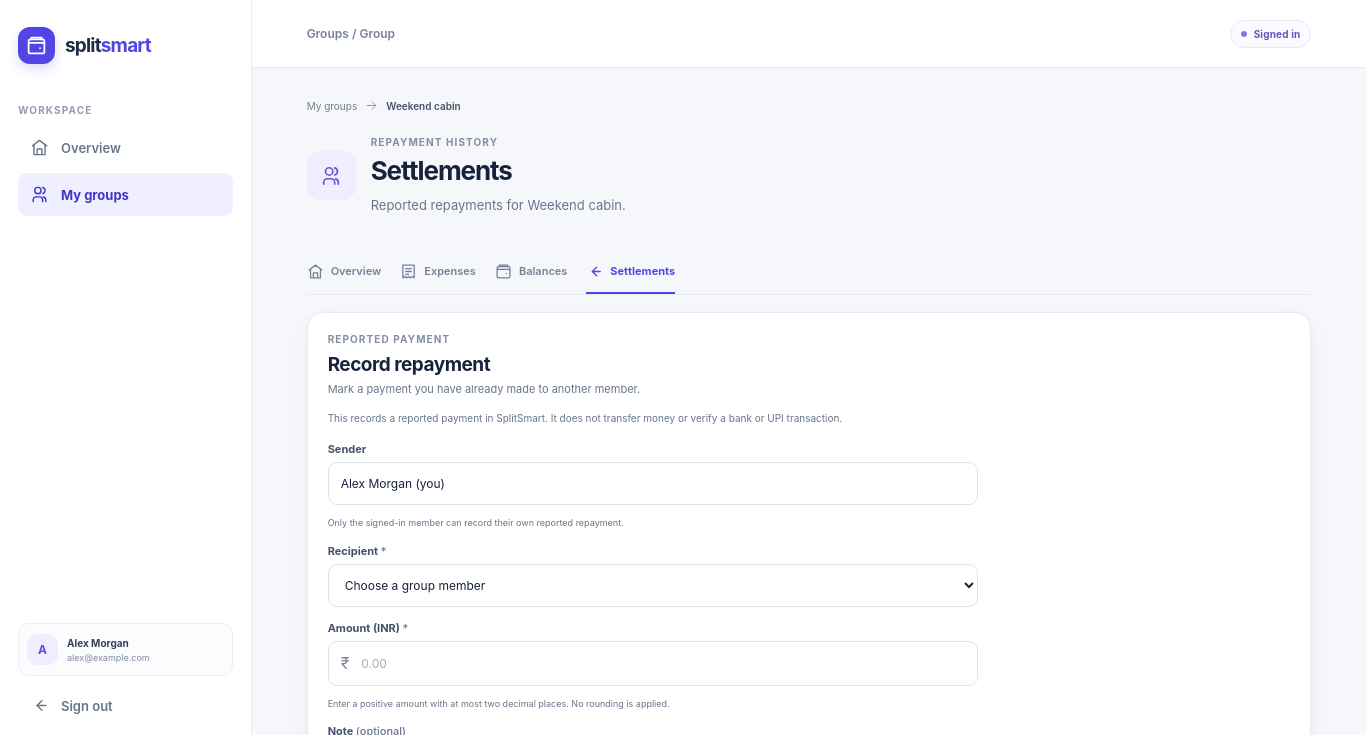
Test: group financial pages › reconciles an idempotency conflict and retries only the same request ID
The width and height of the screenshot is (1366, 735).
Select "Samira Patel" in the dropdown labelled "Recipient *" at (653,585), box x1=328 y1=564 x2=978 y2=607
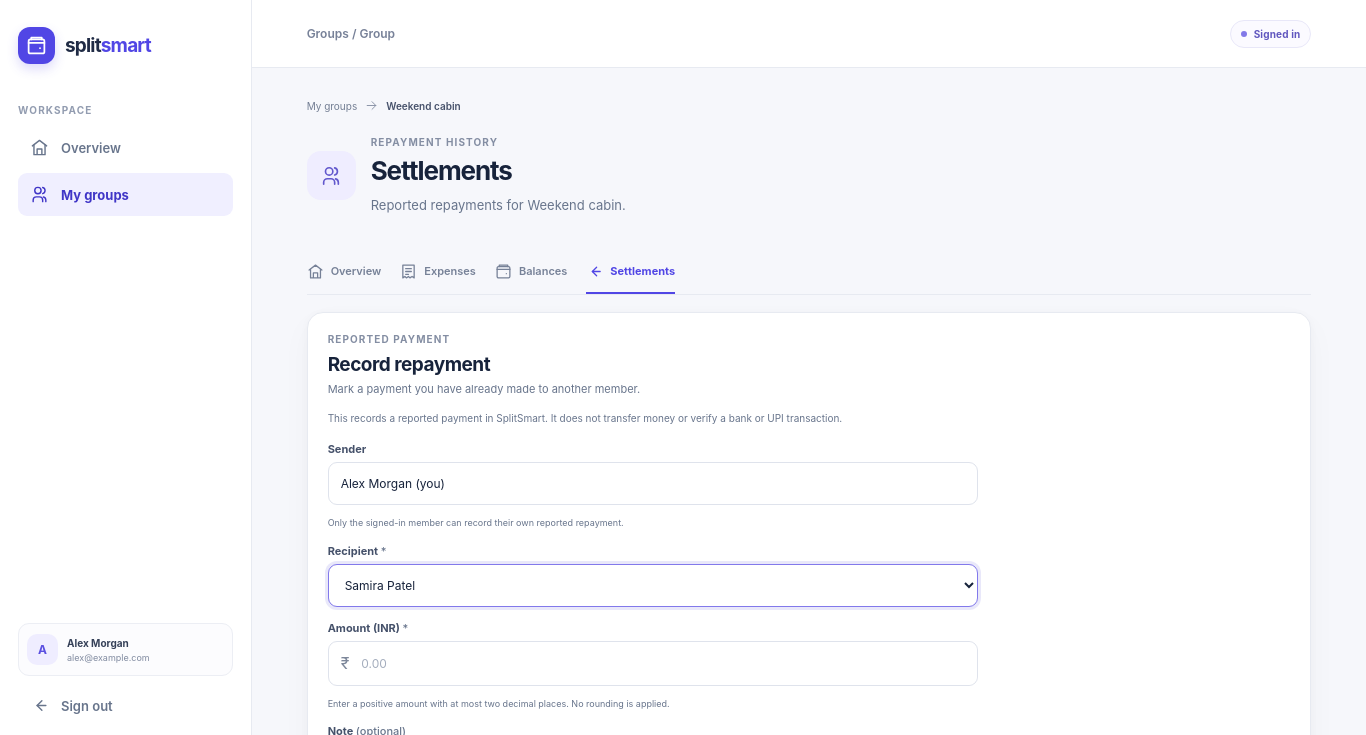
Type "300" into the field labelled "Amount (INR) *" at (663,663), box x1=349 y1=642 x2=977 y2=685
(page scrolled)
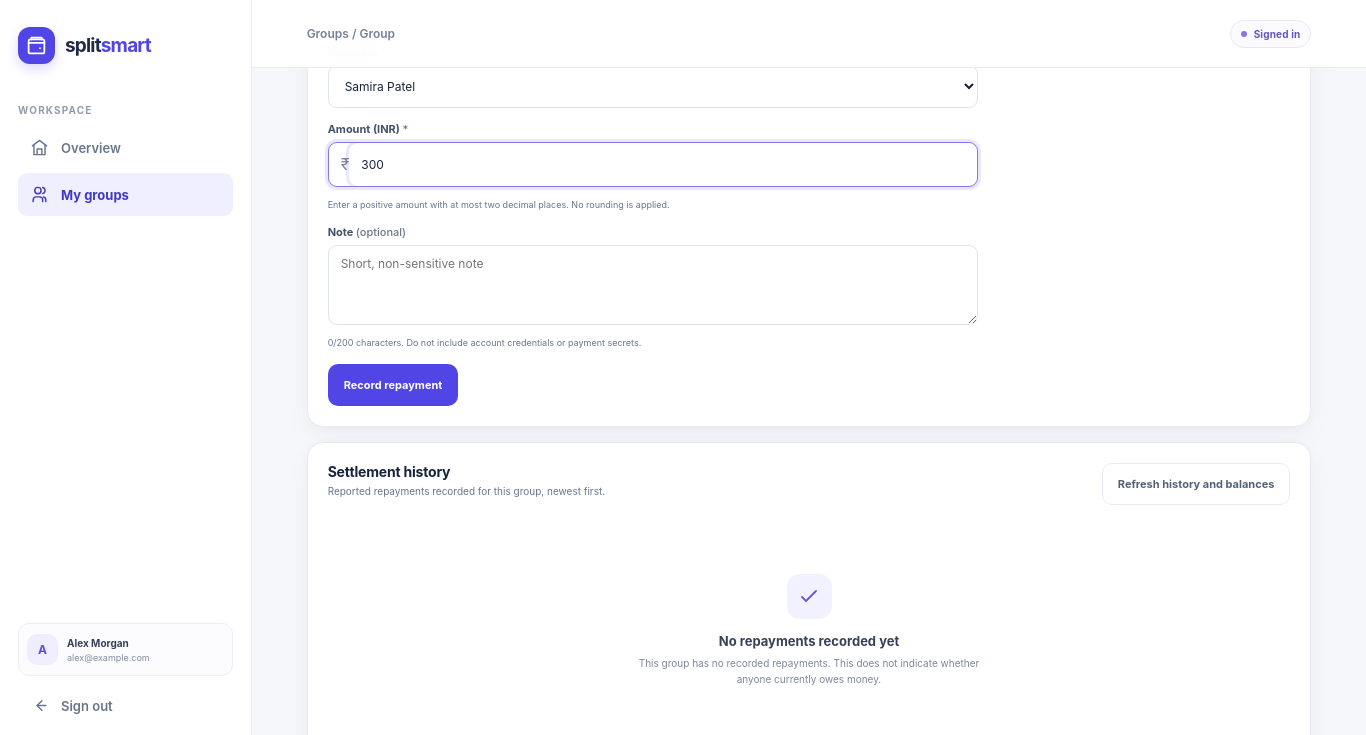
Click the button "Record repayment" at (393,385), box x1=328 y1=364 x2=458 y2=406
(page scrolled)
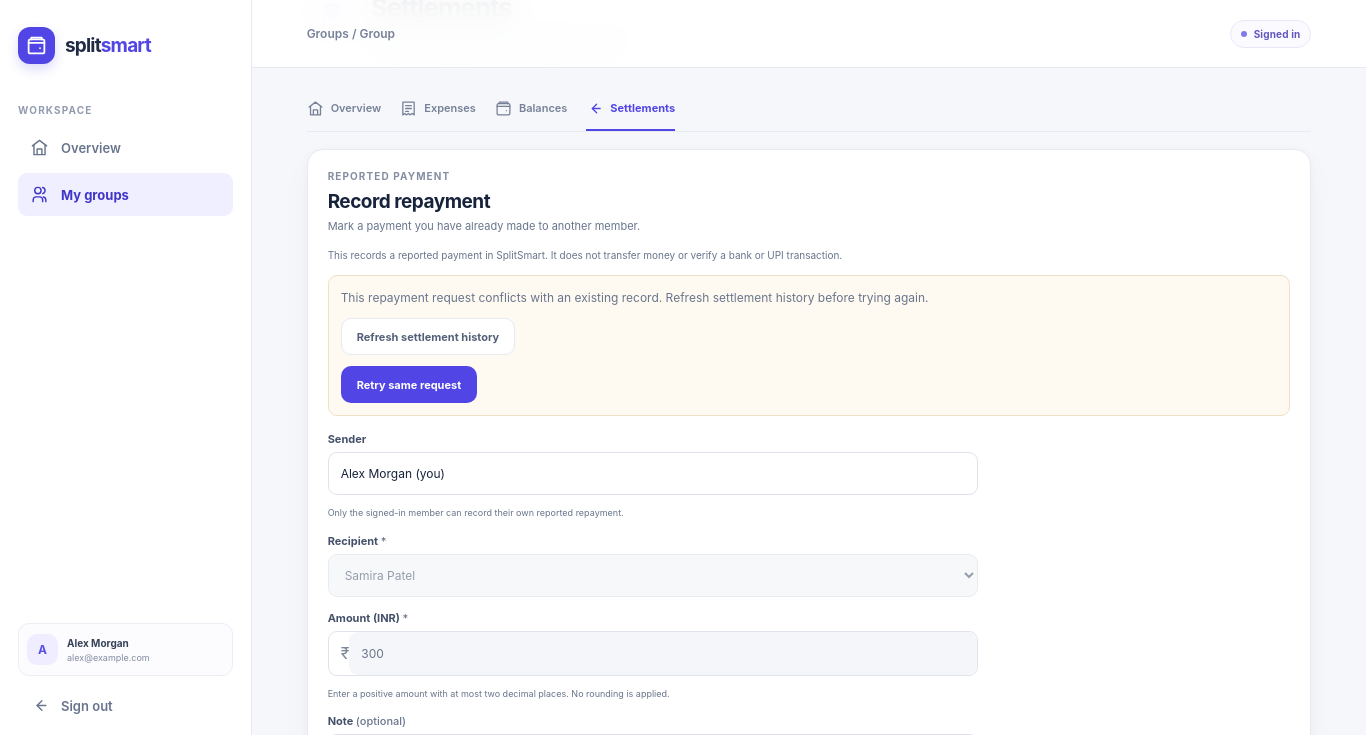
Result: the message shows "conflicts with an existing record" at x1=341 y1=290 x2=928 y2=305
Click the button "Retry same request" at (409,385), box x1=341 y1=366 x2=477 y2=403
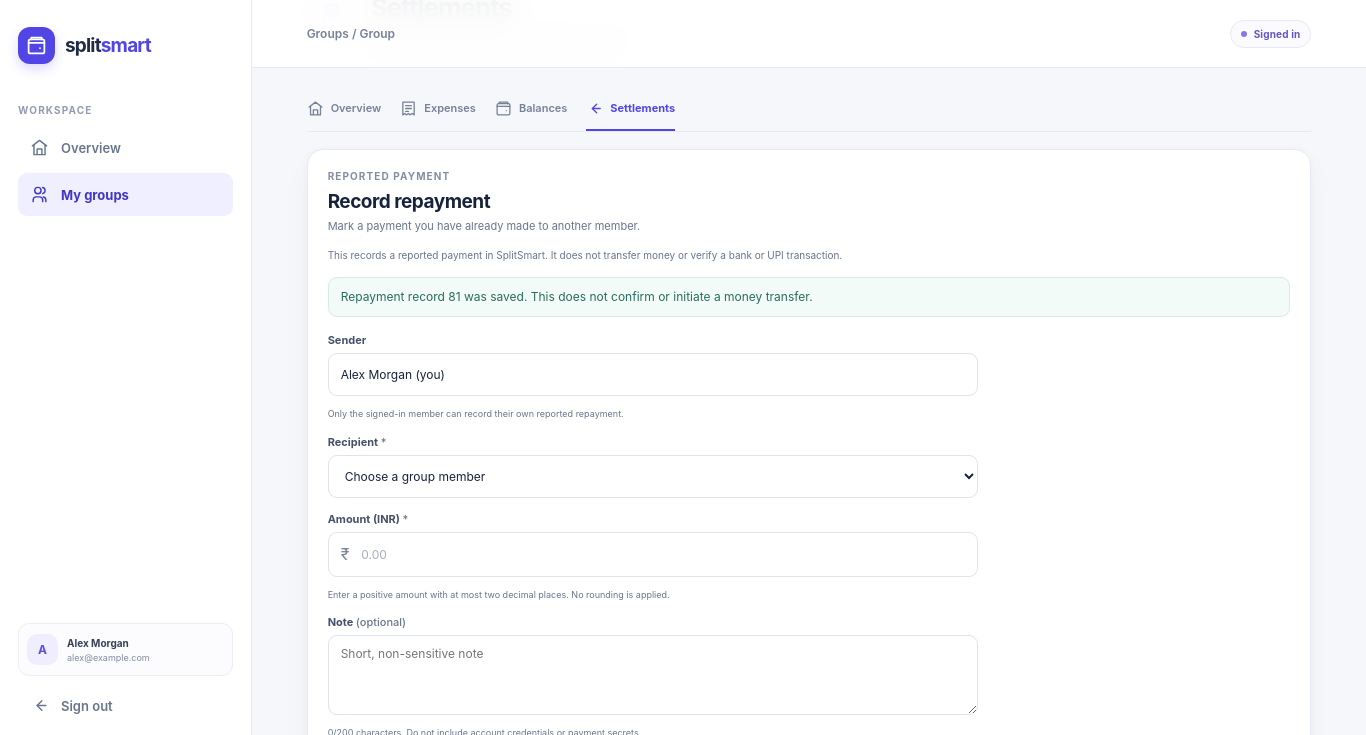
Result: the message shows "was saved" at x1=341 y1=289 x2=813 y2=304
